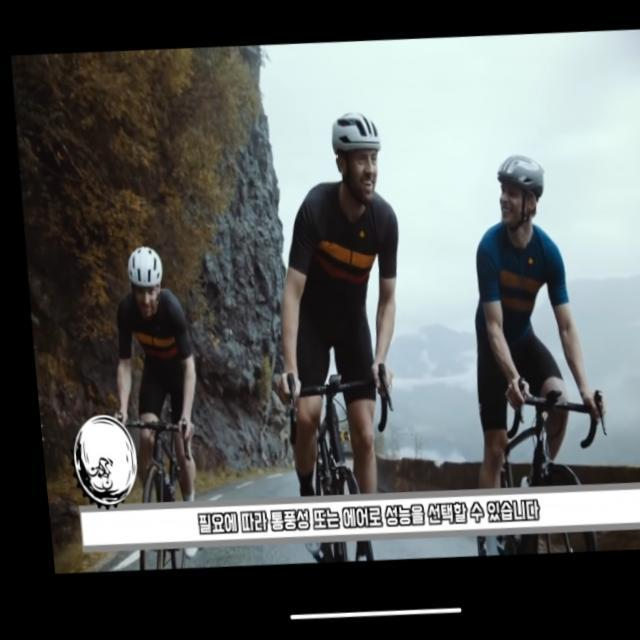Helmet: (321, 99, 382, 209), (118, 232, 178, 322), (493, 149, 549, 227)
